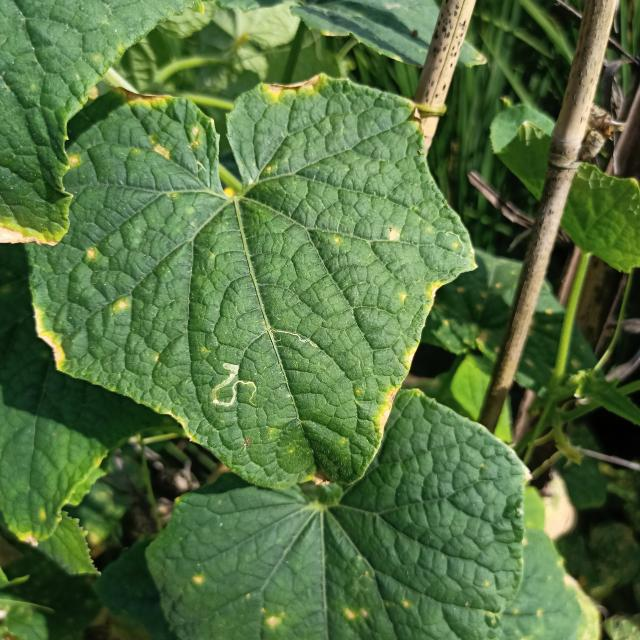disease_cucumber: (149, 120, 205, 164), (398, 279, 445, 306), (114, 297, 129, 313), (388, 226, 401, 243), (84, 247, 96, 261)
